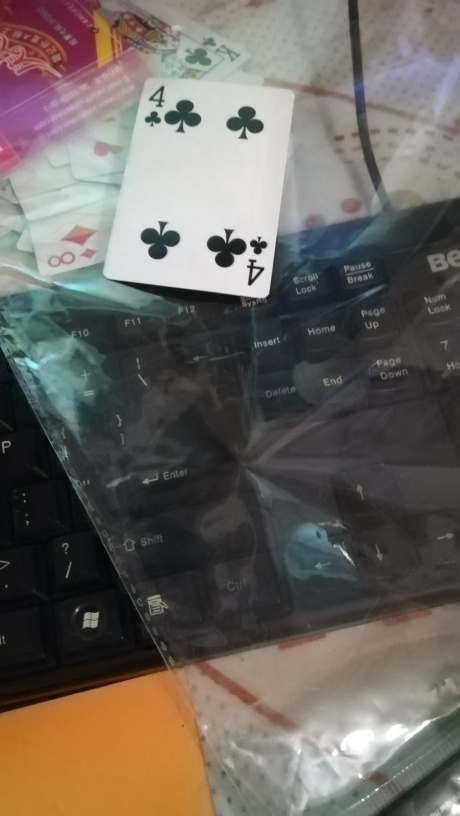mh 4: (105, 75, 292, 299)
